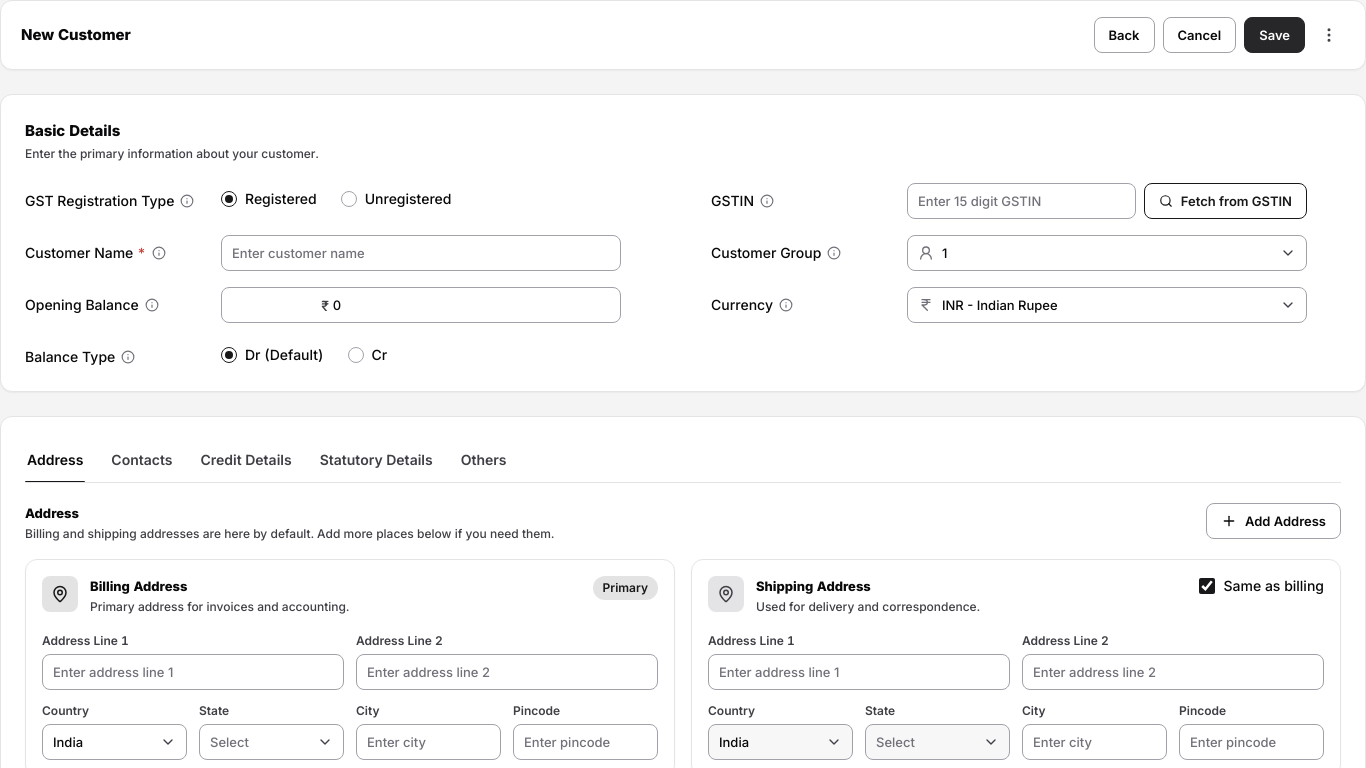
Test: addresses › opens on Billing and Shipping, and adds named places beyond them
Check: the heading "Billing Address" is shown, box [90,578,187,594]
Check: the heading "Shipping Address" is shown, box [756,578,871,594]
Click the button "Add Address".
click(1273, 521)  # box [1206,503,1341,539]
(page scrolled)
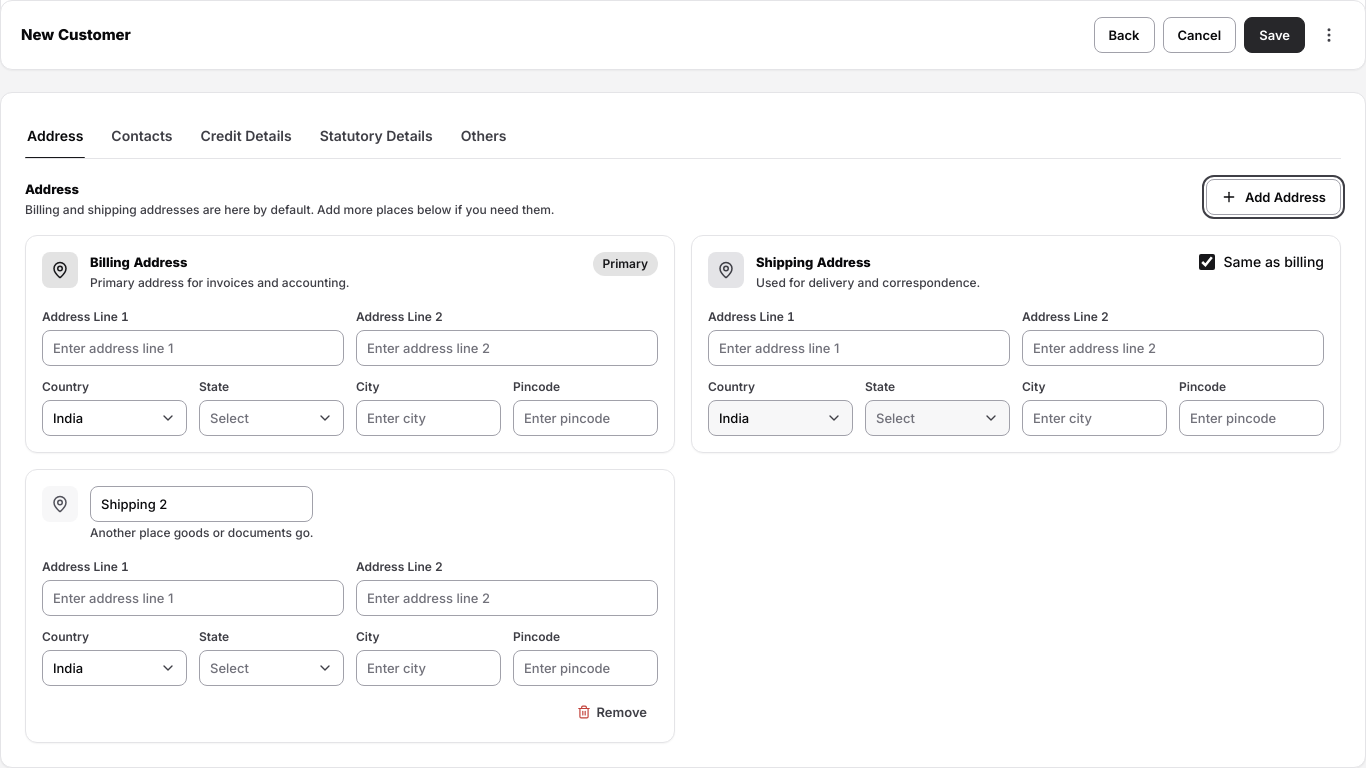
Check: the number of fields labelled "Address Line 1" is 3, box [42,330,344,366]; [708,330,1010,366]; [42,580,344,616]
Check: the field showing "Shipping 2" is shown, box [90,486,313,522]
